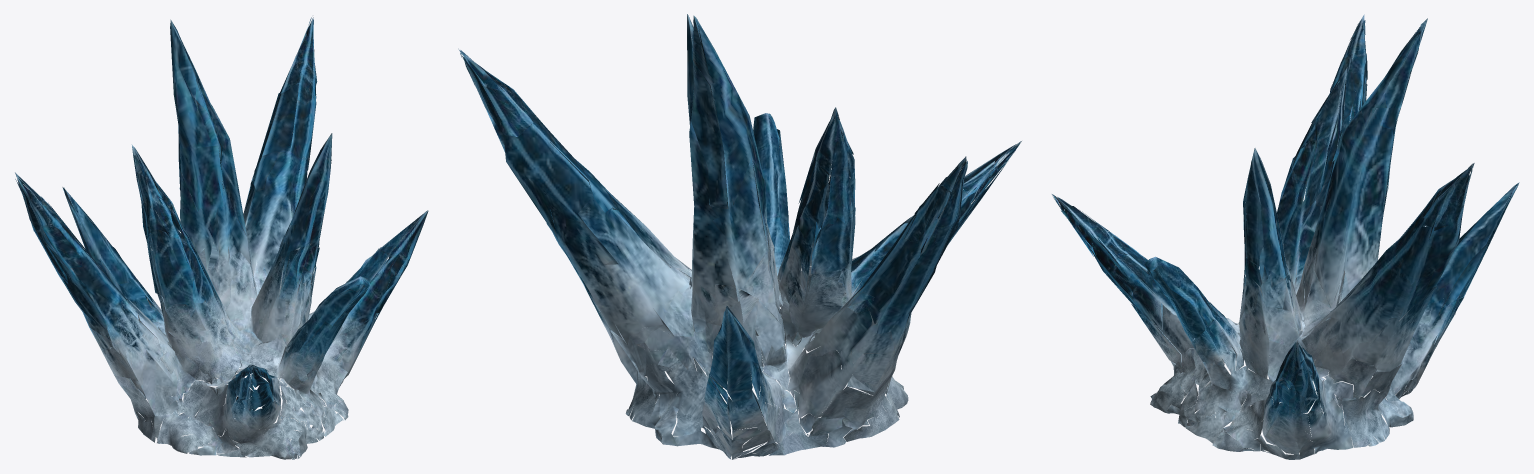
File: crystal.glb
The picture shows the model from 3 angles, left to right: view 1: azimuth 30°, elevation 25°; view 2: azimuth 150°, elevation 25°; view 3: azimuth 270°, elevation 25°; orthographic projection. The views are drawn at different scales.
Parts seen in each view (by area): view 1: Mesh_0; view 2: Mesh_0; view 3: Mesh_0.
Boxes of the visible parts, x1,y1,x2,y2 form: Mesh_0: (15, 17, 428, 459); Mesh_0: (458, 14, 1021, 459); Mesh_0: (1052, 14, 1519, 459).
Size of the model in its own units: 1.05 by 0.91 by 1.
Materials: 1 (1 with a texture image).
